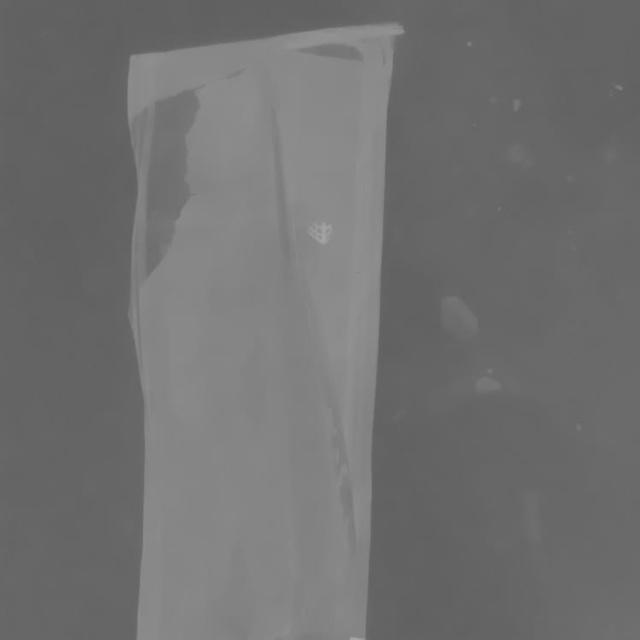botador: (257, 101, 360, 595)
